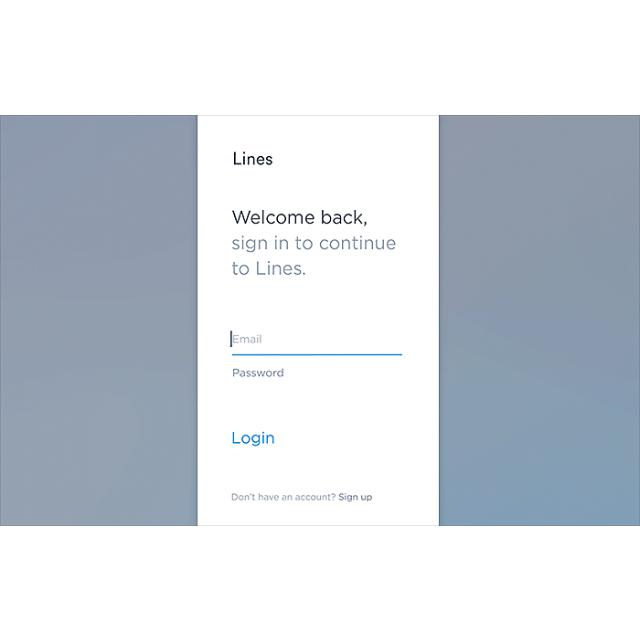QLabel: (230, 206, 368, 228), (230, 234, 396, 252), (231, 260, 307, 276), (230, 146, 278, 170), (228, 492, 334, 502), (230, 428, 280, 448), (232, 366, 286, 378), (338, 492, 372, 502)
VCard: (197, 114, 439, 526)
VTextField: (229, 329, 403, 356)
